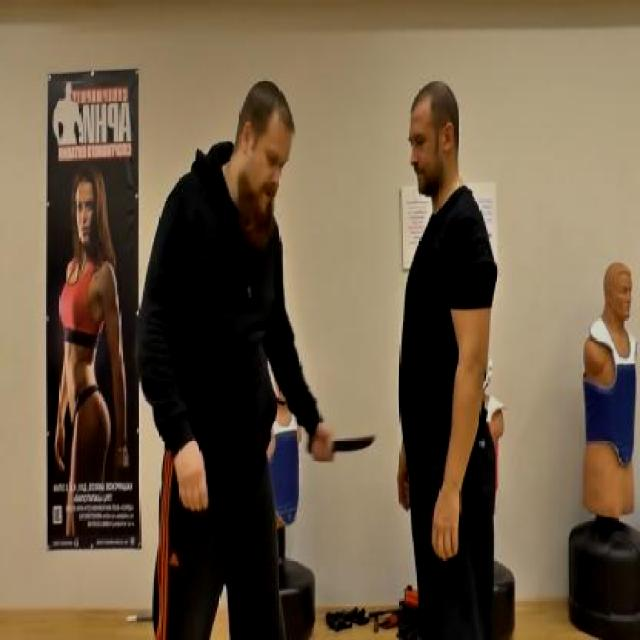knife: (303, 422, 380, 469)
